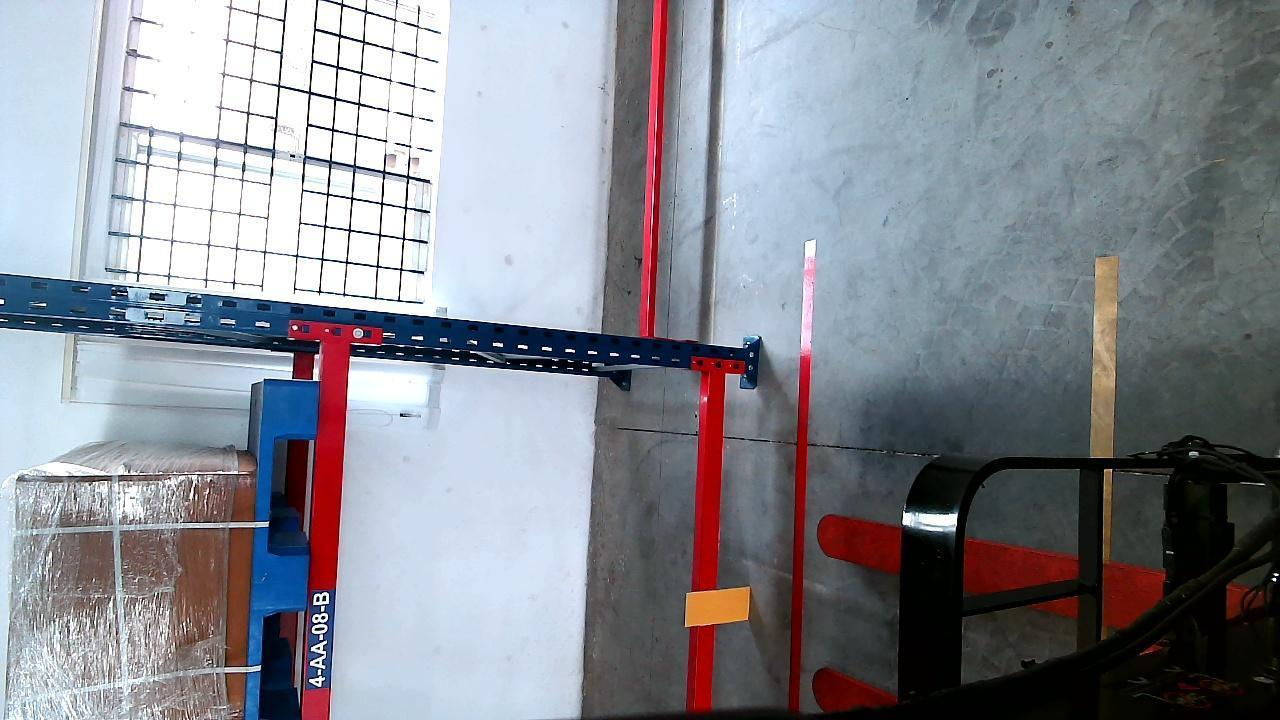h_rack: (304, 340, 352, 718), (693, 370, 725, 708)
orange_strip: (687, 586, 752, 626)
red_line: (786, 235, 815, 714)
small_pallet: (245, 377, 317, 713)
yellow_line: (1093, 253, 1120, 653)
